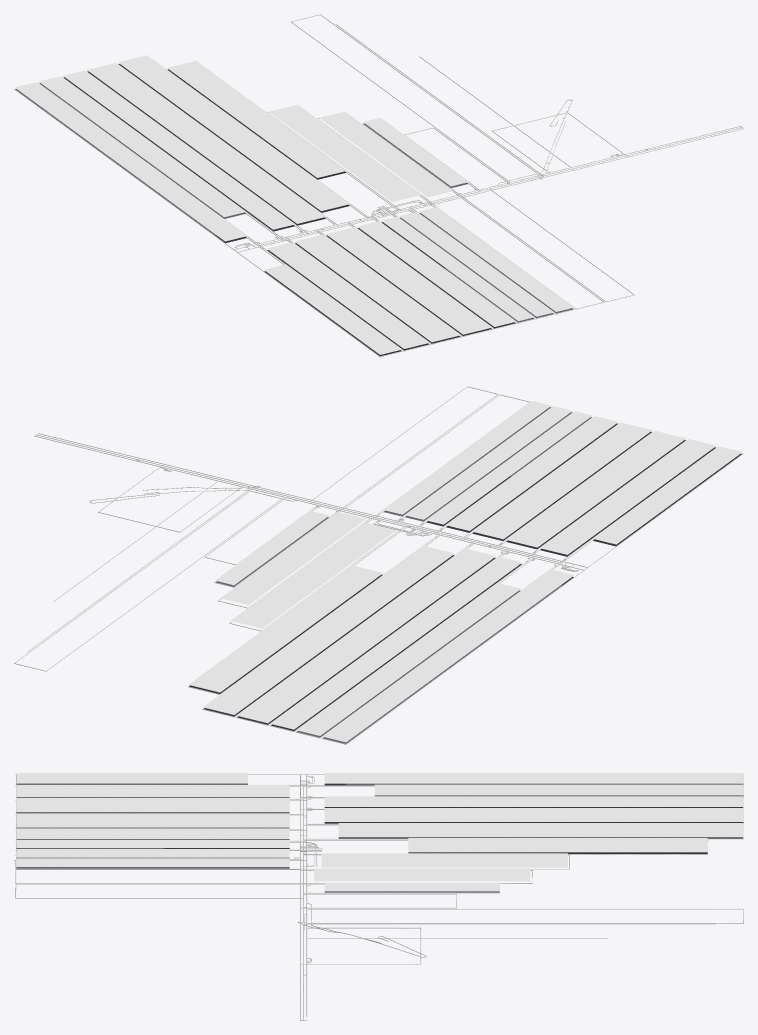
File: 巷道综采面.glb
3 renders of one model, top to bottom at view 1: azimuth 30°, elevation 25°; view 2: azimuth 150°, elevation 25°; view 3: azimuth 270°, elevation 25°, orthographic. The views are drawn at different scales.
Visible parts, largest first — view 1: 综采面名字, 巷道线, 综采面; view 2: 综采面名字, 巷道线, 综采面; view 3: 综采面名字, 巷道线, 综采面.
Part boxes in pixels (x1,y1,x2,y2): 综采面名字: [15, 55, 573, 354]; 巷道线: [14, 14, 743, 357]; 综采面: [15, 64, 572, 356]; 综采面名字: [188, 401, 742, 742]; 巷道线: [14, 386, 743, 744]; 综采面: [189, 407, 741, 743]; 综采面名字: [16, 773, 743, 891]; 巷道线: [14, 774, 743, 1020]; 综采面: [16, 783, 743, 892].
Bounding box in the file's own units: 83.76 × 1.82 × 105.
Materials: 3 (2 with a texture image).
